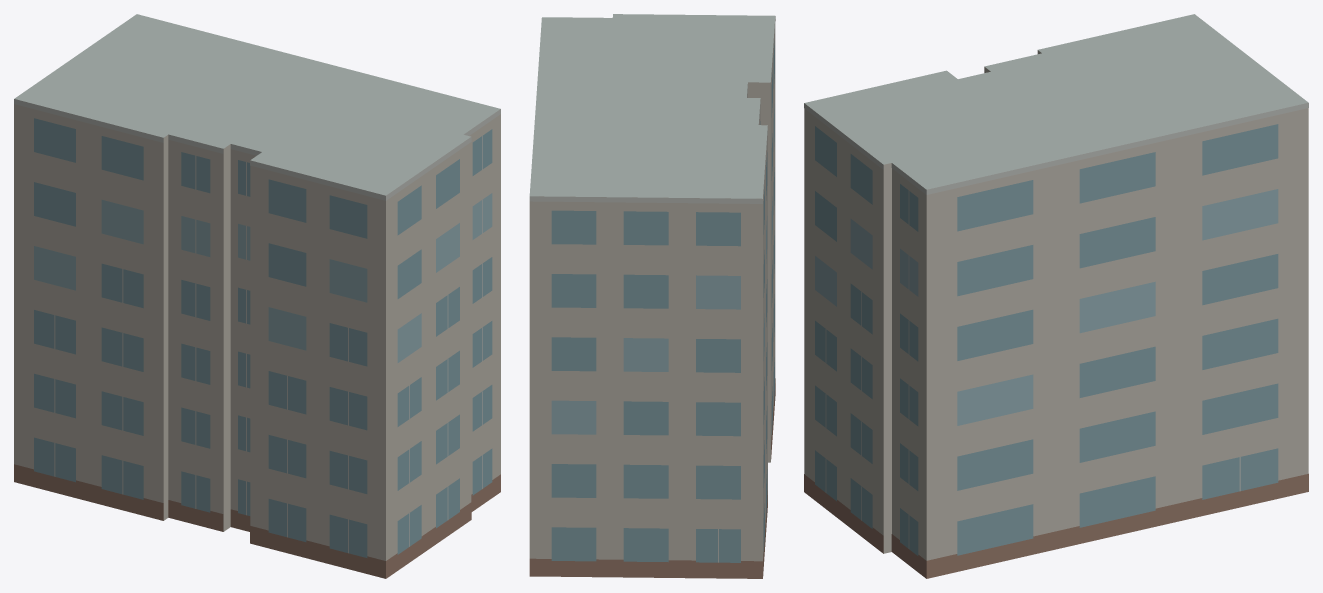
The model's file is survey-upis-32668189.glb.
3 views of the same model, side by side, from view 1: azimuth 30°, elevation 25°; view 2: azimuth 150°, elevation 25°; view 3: azimuth 270°, elevation 25° (orthographic). The views are drawn at different scales.
Parts seen in each view (by area): view 1: survey-upis-32668189.tmp; view 2: survey-upis-32668189.tmp; view 3: survey-upis-32668189.tmp.
Part boxes in pixels (x1,y1,x2,y2): survey-upis-32668189.tmp: (14,14,500,578); survey-upis-32668189.tmp: (529,14,775,578); survey-upis-32668189.tmp: (804,14,1308,578).
Bounding box in the file's own units: 17.45 × 18 × 21.16.
